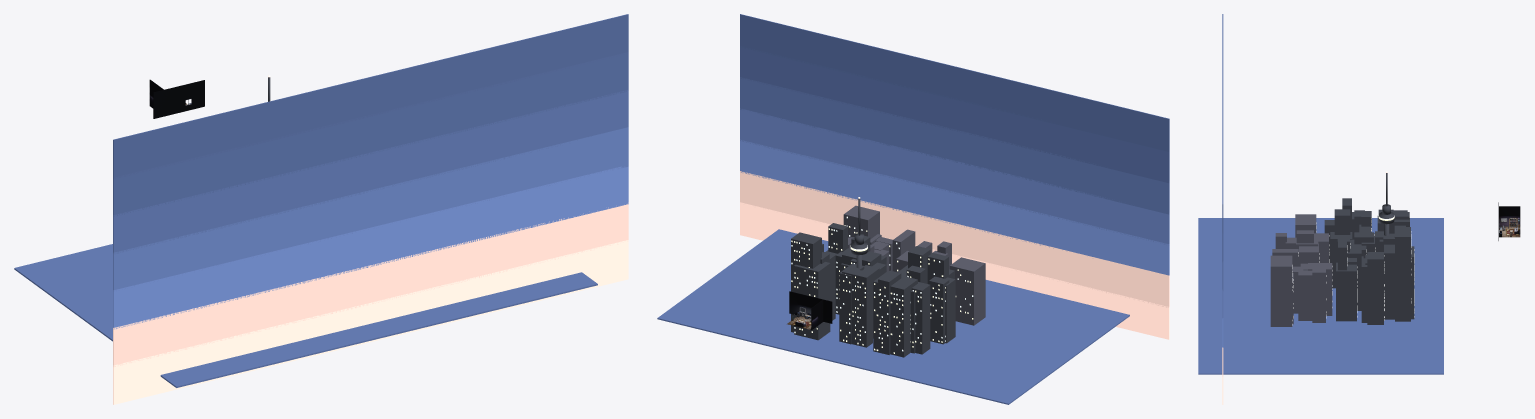
File: room-baked.glb
The picture shows the model from 3 angles, left to right: view 1: azimuth 30°, elevation 25°; view 2: azimuth 150°, elevation 25°; view 3: azimuth 270°, elevation 25°; orthographic projection. The views are drawn at different scales.
Parts seen in each view (by area): view 1: ix_window, wall_back; view 2: ix_window, wall_back, cn_tower; view 3: ix_window, cn_tower, wall_left.
Part boxes in pixels (x1,y1,x2,y2): ix_window: (14,14,628,404); wall_back: (153,80,204,118); ix_window: (657,14,1169,404); wall_back: (789,291,832,323); cn_tower: (850,197,867,268); ix_window: (1198,14,1443,404); cn_tower: (1378,171,1394,235); wall_left: (1499,206,1520,225).
Size of the model in its own units: 110 by 54.07 by 78.72.
144 materials, 131 textured.
